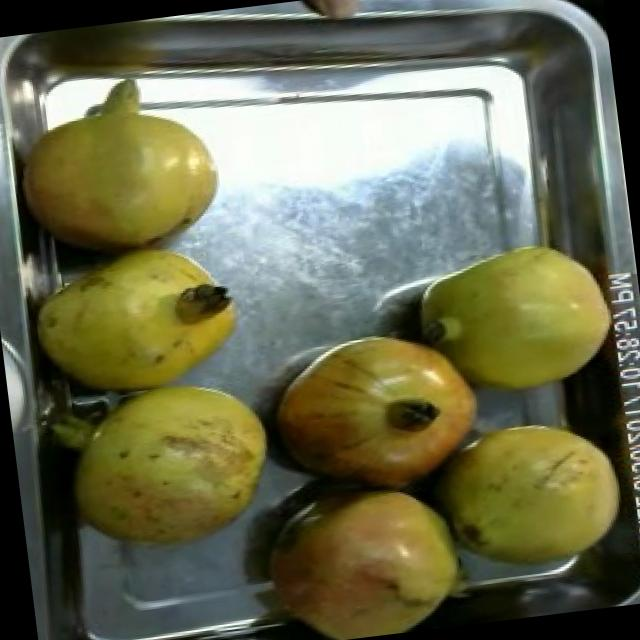fruit: (50, 354, 296, 576), (245, 310, 503, 520), (0, 66, 245, 272), (230, 454, 491, 640), (17, 222, 265, 414), (417, 395, 640, 591), (402, 225, 630, 412)
